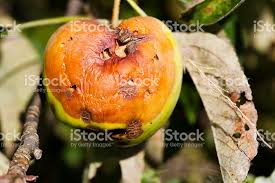damaged_apple: (42, 21, 185, 148)
